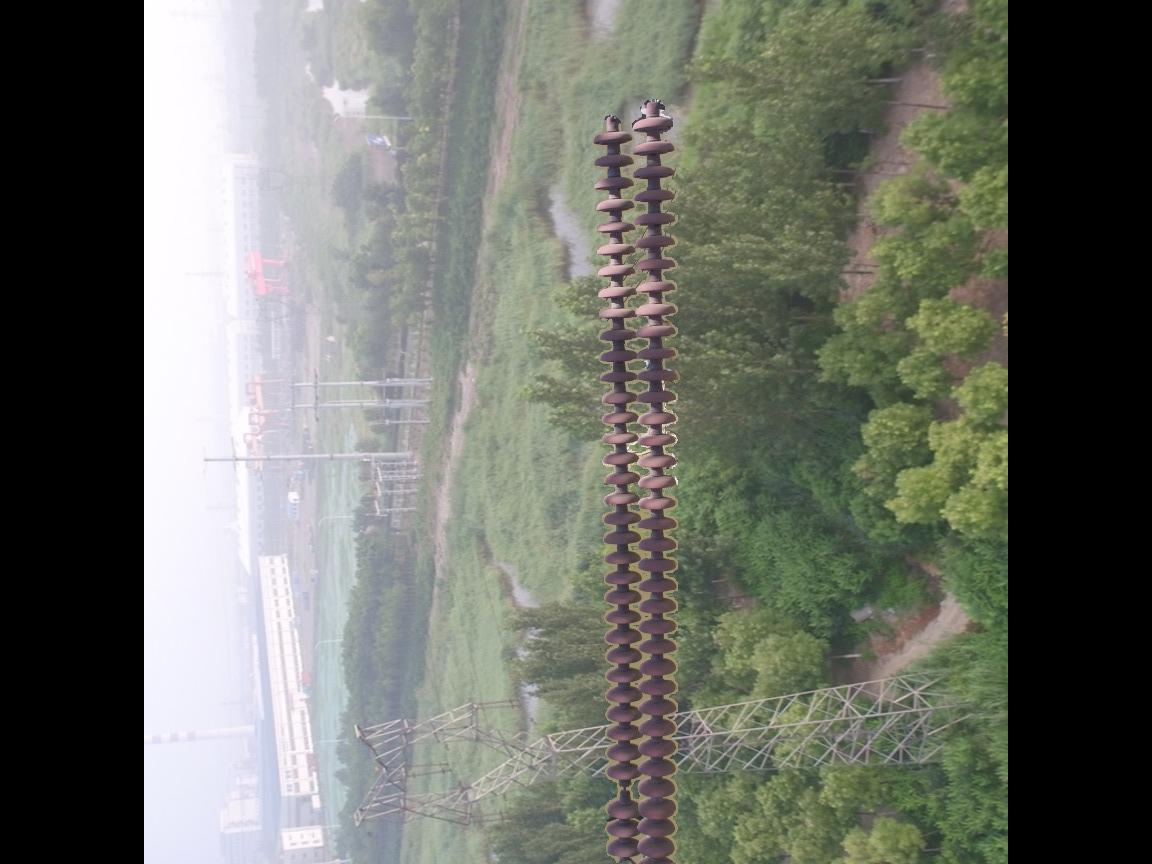insulator: (589, 111, 685, 864)
insulator_stringdrop: (602, 760, 645, 821)
